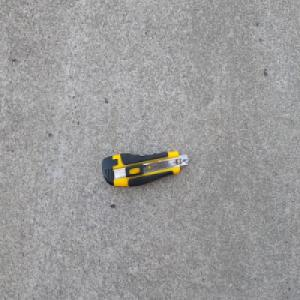Cutter: (100, 149, 188, 188)
